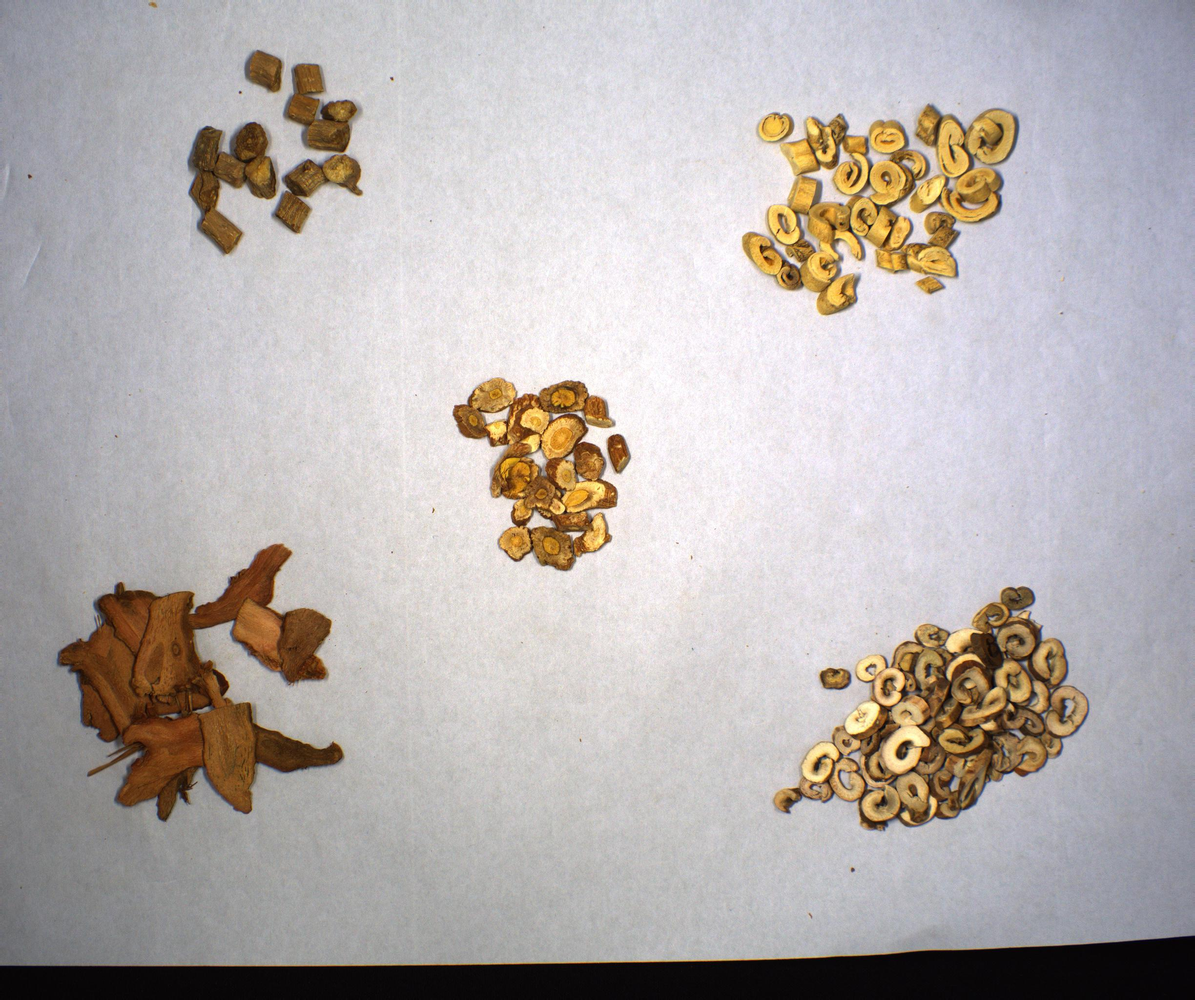baixianpi: (741, 104, 1019, 317)
banlangen: (451, 375, 633, 572)
gaoliangjiang: (55, 541, 343, 824)
mudanpi: (771, 585, 1090, 835)
niuxi: (188, 51, 367, 255)
